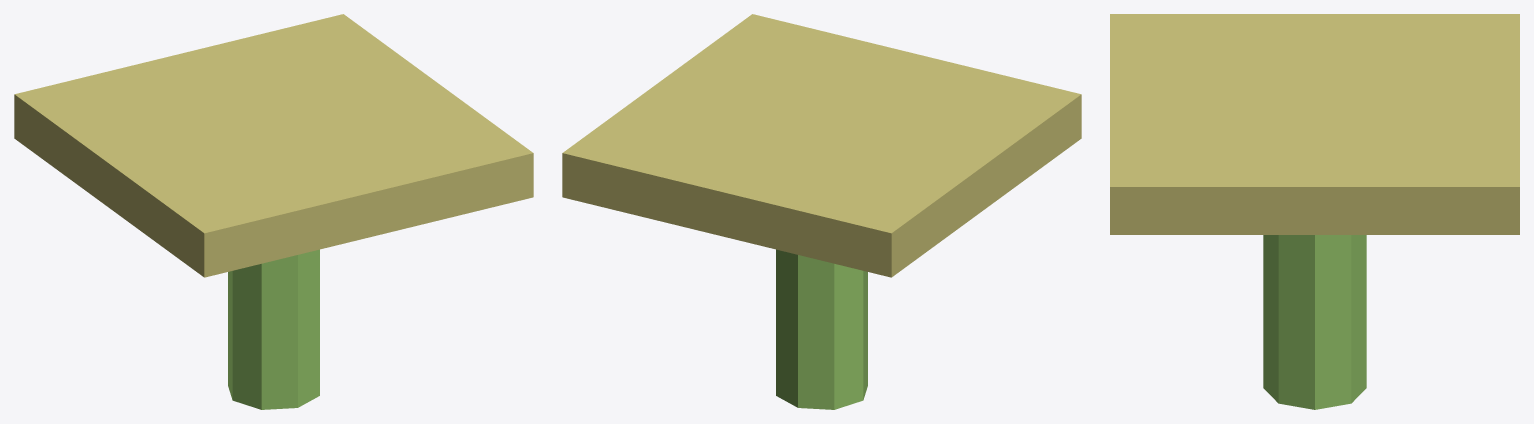
Rendered from table.dae.
3 views of the same model, side by side, from view 1: azimuth 30°, elevation 25°; view 2: azimuth 150°, elevation 25°; view 3: azimuth 270°, elevation 25° (orthographic). The views are drawn at different scales.
Visible parts, largest first — view 1: TableExport; view 2: TableExport; view 3: TableExport.
Boxes of the visible parts, box(x1,y1,x2,y2) form: TableExport: box(14, 14, 533, 409); TableExport: box(562, 14, 1081, 409); TableExport: box(1110, 14, 1519, 409).
Bounding box in the file's own units: 2 × 2 × 1.55.
